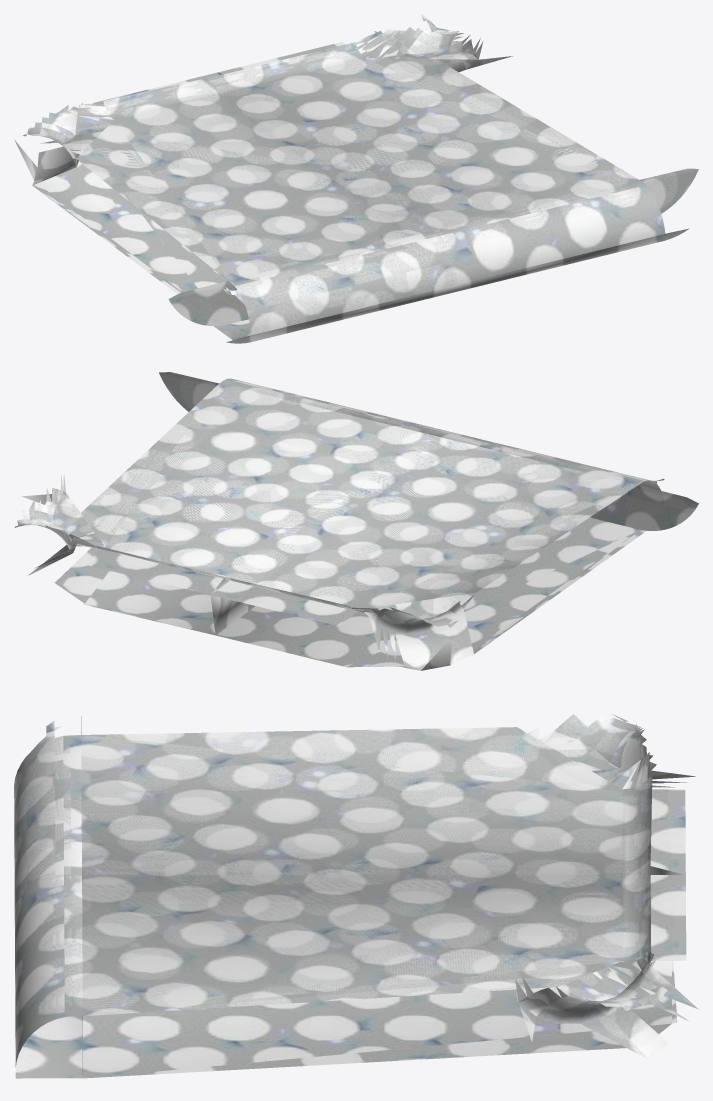
The picture shows the model from 3 angles, top to bottom: view 1: azimuth 30°, elevation 25°; view 2: azimuth 150°, elevation 25°; view 3: azimuth 270°, elevation 25°; orthographic projection. The views are drawn at different scales.
Size of the model in its own units: 1.04 by 0.1333 by 0.8277.
